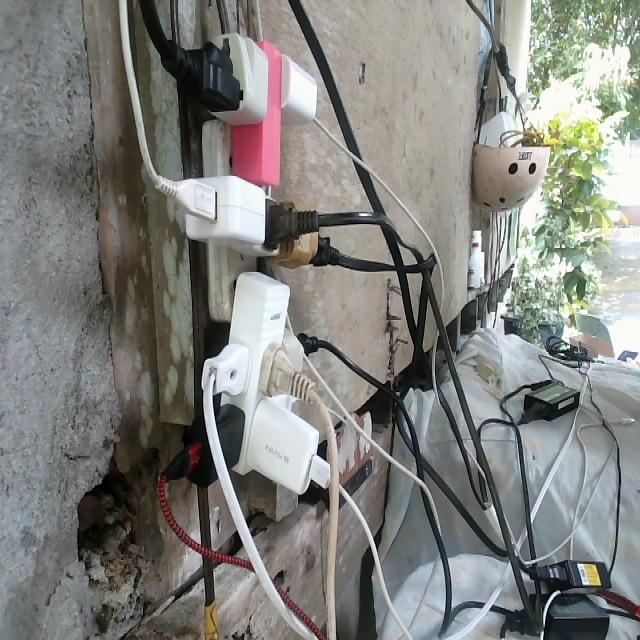-: (158, 29, 353, 499)
